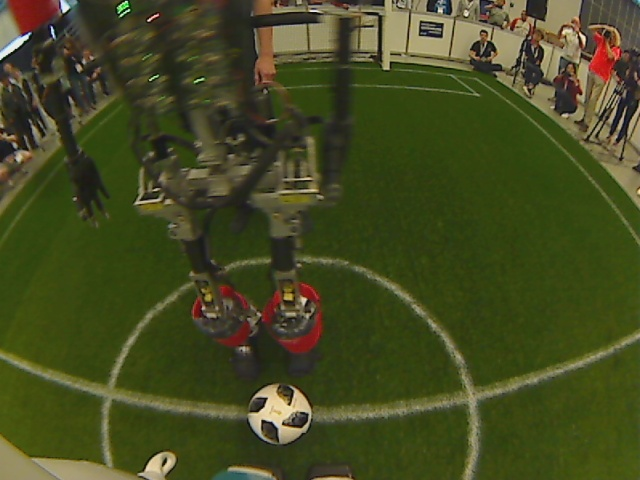ball: (246, 382, 315, 447)
goalpost: (273, 1, 396, 73)
robot: (8, 1, 359, 380)
